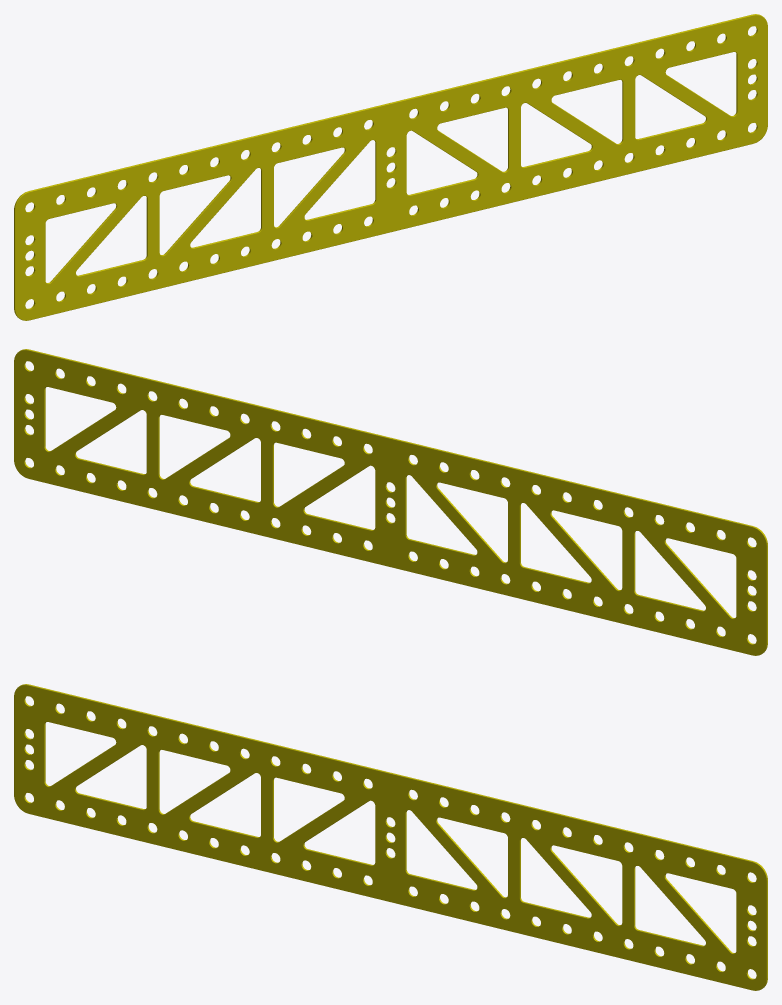
Rendered from ThanhThang_25_Vang.glb.
3 renders of one model, top to bottom at view 1: azimuth 30°, elevation 25°; view 2: azimuth 150°, elevation 25°; view 3: azimuth 330°, elevation 25°, orthographic.
Visible parts, largest first — view 1: defaultobject; view 2: defaultobject; view 3: defaultobject.
Part boxes in pixels (bbox=[...]): defaultobject: bbox=[14, 14, 767, 320]; defaultobject: bbox=[14, 349, 767, 655]; defaultobject: bbox=[14, 684, 767, 990].
Size of the model in its own units: 998 by 163 by 2.61.
